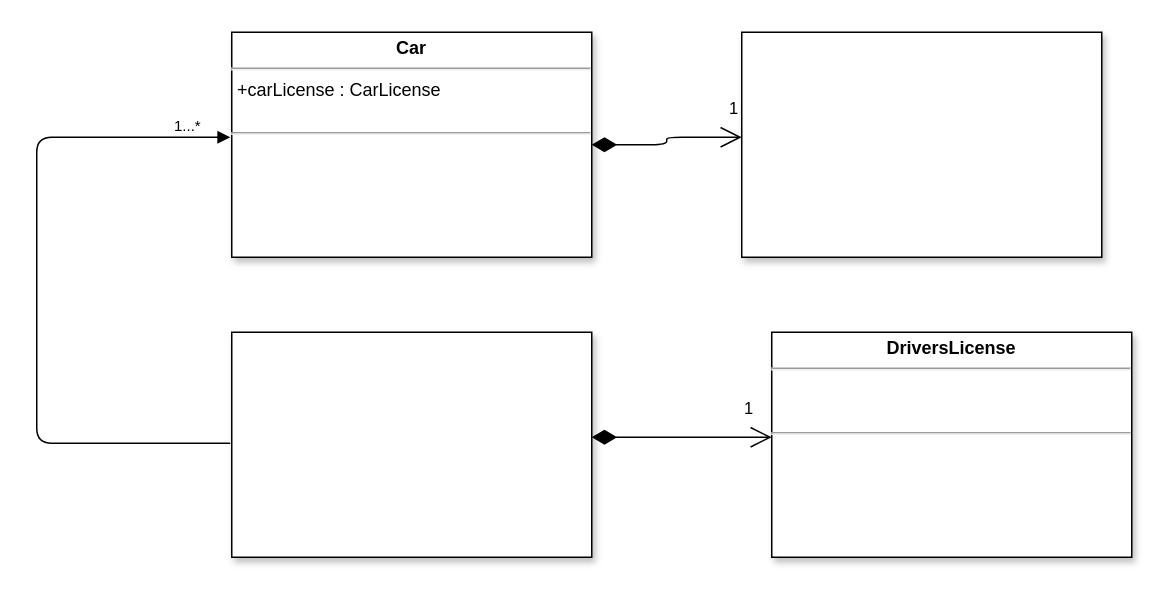
The diagram is 1167 pixels wide and 594 high, and some of its shapes have lost their labels. Each missing label, with the centre of its shape:
"CarLicense" goes at point 922,146.
"Driver +driversLicense: DriversLicense +car: Car" goes at point 412,446.
